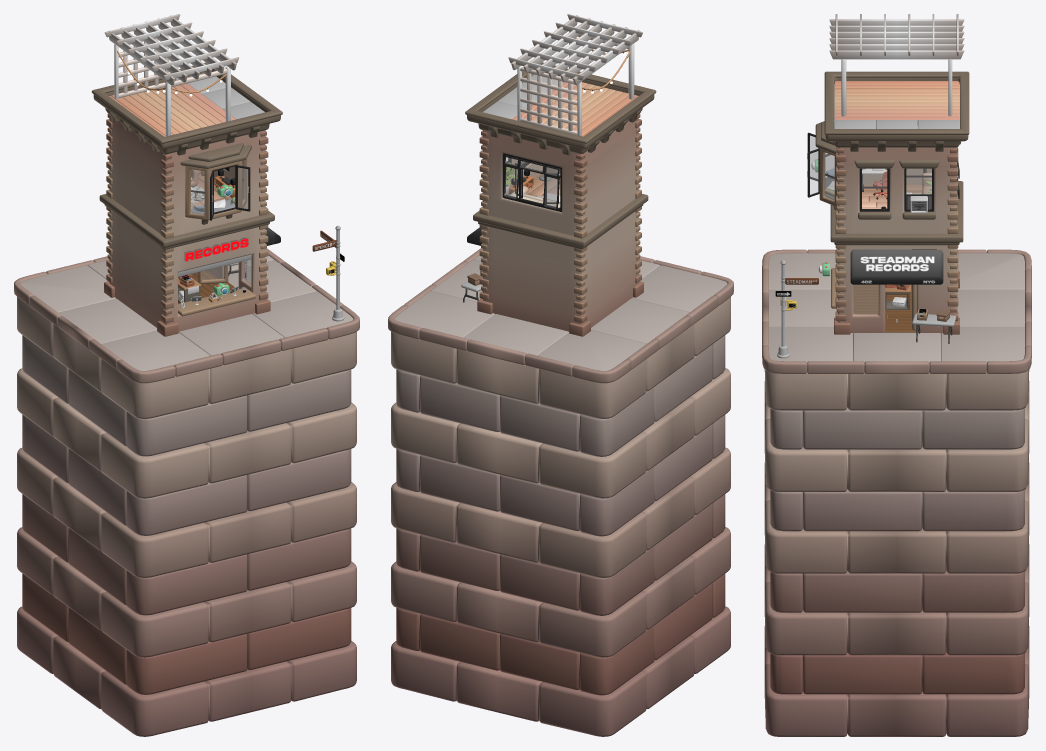
3 views of the same model, side by side, from view 1: azimuth 30°, elevation 25°; view 2: azimuth 150°, elevation 25°; view 3: azimuth 270°, elevation 25° (orthographic). The views are drawn at different scales.
Visible parts, largest first — view 1: Cube.053, Cube.054, body, Plane.016, Cube.111, Cube.018, shop floor.001, Cube.028, Cube.030, Cube.021, Cube.016, Cube.017 (+7 smaller); view 2: Cube.053, Cube.054, body, Plane.016, Cube.111, Cube.018, Cube.028, Cube.030, Cube.021, shop floor.001, Cube.016, Cube.017 (+5 smaller); view 3: Cube.053, Cube.054, Plane.016, body, Cube.111, Cube.028, shop floor.001, shop, Cube.018, Cube.021, Cube.016, Cube.017 (+10 smaller).
Part boxes in pixels (left/top/right/bottom): Cube.053: left=17, top=297, right=356, bottom=736; Cube.054: left=22, top=335, right=351, bottom=694; body: left=109, top=119, right=265, bottom=331; Plane.016: left=20, top=255, right=353, bottom=370; Cube.111: left=14, top=248, right=359, bottom=383; Cube.018: left=104, top=113, right=270, bottom=336; shop floor.001: left=109, top=79, right=235, bottom=136; Cube.028: left=108, top=15, right=236, bottom=85; Cube.030: left=104, top=14, right=239, bottom=80; Cube.021: left=91, top=62, right=282, bottom=143; Cube.016: left=99, top=194, right=274, bottom=249; Cube.017: left=93, top=70, right=280, bottom=154; Cube.053: left=391, top=297, right=730, bottom=736; Cube.054: left=396, top=335, right=725, bottom=695; body: left=482, top=118, right=638, bottom=331; Plane.016: left=394, top=255, right=727, bottom=370; Cube.111: left=388, top=248, right=733, bottom=383; Cube.018: left=477, top=113, right=643, bottom=336; Cube.028: left=511, top=15, right=640, bottom=85; Cube.030: left=508, top=14, right=642, bottom=80; Cube.021: left=465, top=62, right=656, bottom=143; shop floor.001: left=512, top=82, right=638, bottom=136; Cube.016: left=473, top=194, right=648, bottom=249; Cube.017: left=467, top=69, right=654, bottom=153; Cube.053: left=764, top=369, right=1029, bottom=736; Cube.054: left=770, top=407, right=1024, bottom=694; Plane.016: left=768, top=253, right=1025, bottom=363; body: left=837, top=147, right=956, bottom=333; Cube.111: left=762, top=249, right=1031, bottom=373; Cube.028: left=829, top=19, right=964, bottom=59; shop floor.001: left=834, top=81, right=959, bottom=120; shop: left=850, top=249, right=943, bottom=284; Cube.018: left=834, top=147, right=959, bottom=334; Cube.021: left=824, top=71, right=969, bottom=134; Cube.016: left=830, top=181, right=963, bottom=245; Cube.017: left=825, top=77, right=968, bottom=147.
Bounding box in the file's own units: 28.62 × 74.83 × 28.47.
Materials: 152 (42 with a texture image).
